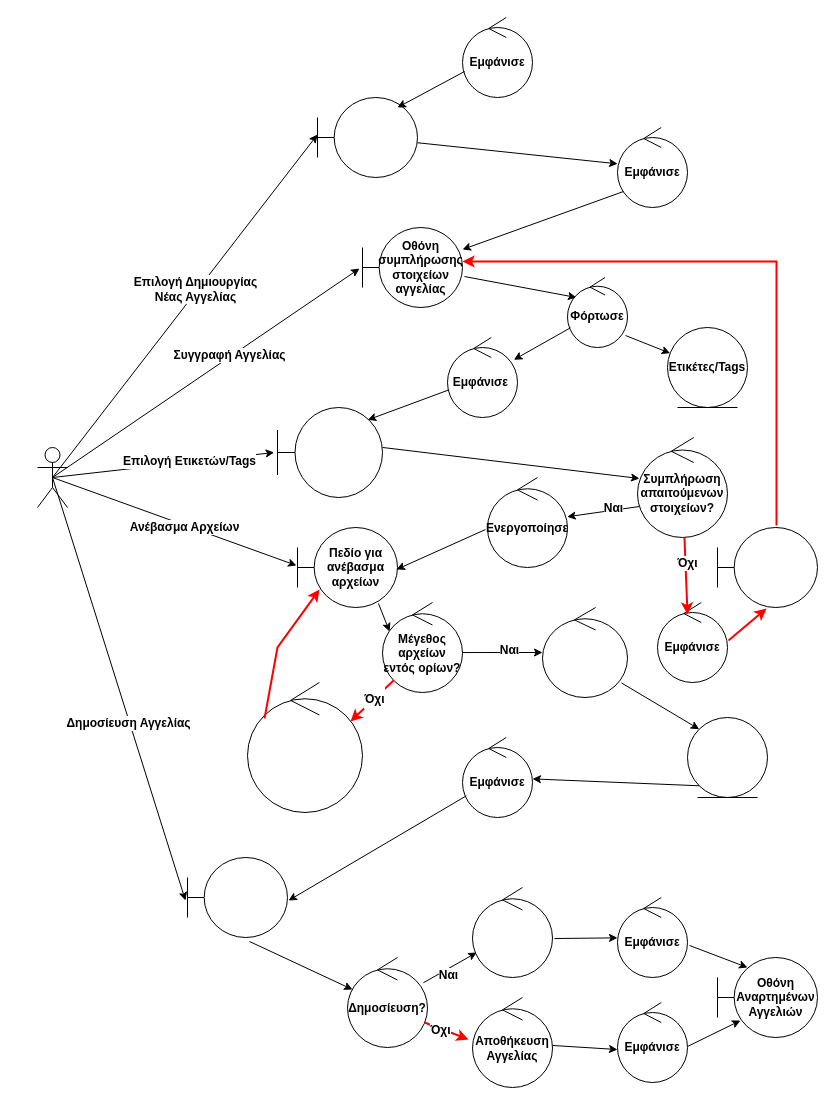
Some shapes in this 835 by 1105 pixel diagram are drawn without their labels. Each missing label, with the box of its shape:
Αγγελία Εργασίας: (686, 716, 768, 798)
Ανάρτηση Αγγελίας: (472, 886, 552, 978)
Δημιούργησε: (542, 606, 628, 698)
Εμφάνισε Μήνυμα Υπέρβασης Ορίου Μεγέθους Αρχείων: (246, 682, 362, 812)
Μήνυμα Αποτυχίας, Υπογράμμιση Ελλείψεων: (716, 526, 818, 608)
Μήνυμα για Δημοσίευση Αγγελίας: (186, 856, 288, 938)
Οθόνη αναρτημένων από το χειριστή αγγελιών: (316, 96, 418, 178)
Πεδίο επιλογής ετικετών/tags: (276, 406, 382, 498)
Πολιτιστικός Οργανισμός: (36, 446, 68, 508)
